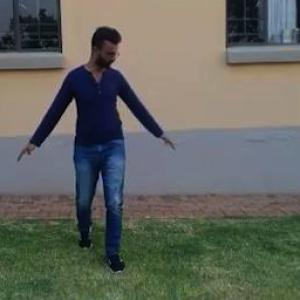land: (12, 8, 206, 258)
